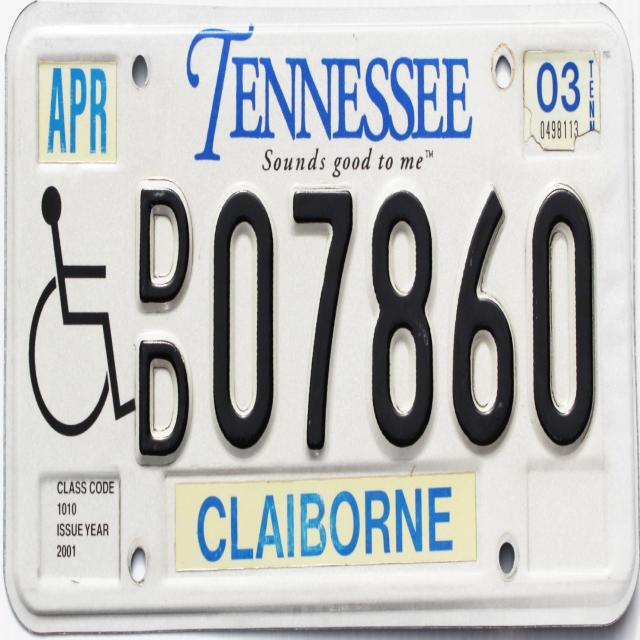symbol_of_access: (25, 179, 133, 443)
